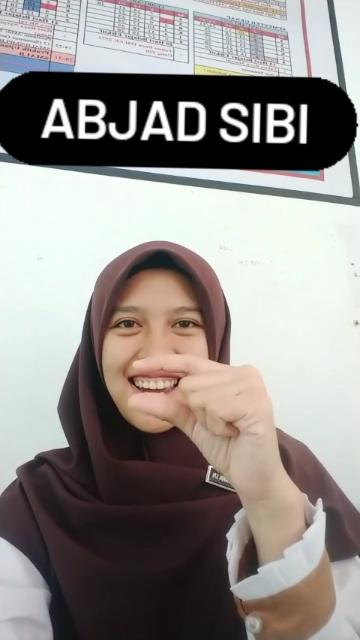G: (129, 353, 281, 487)
